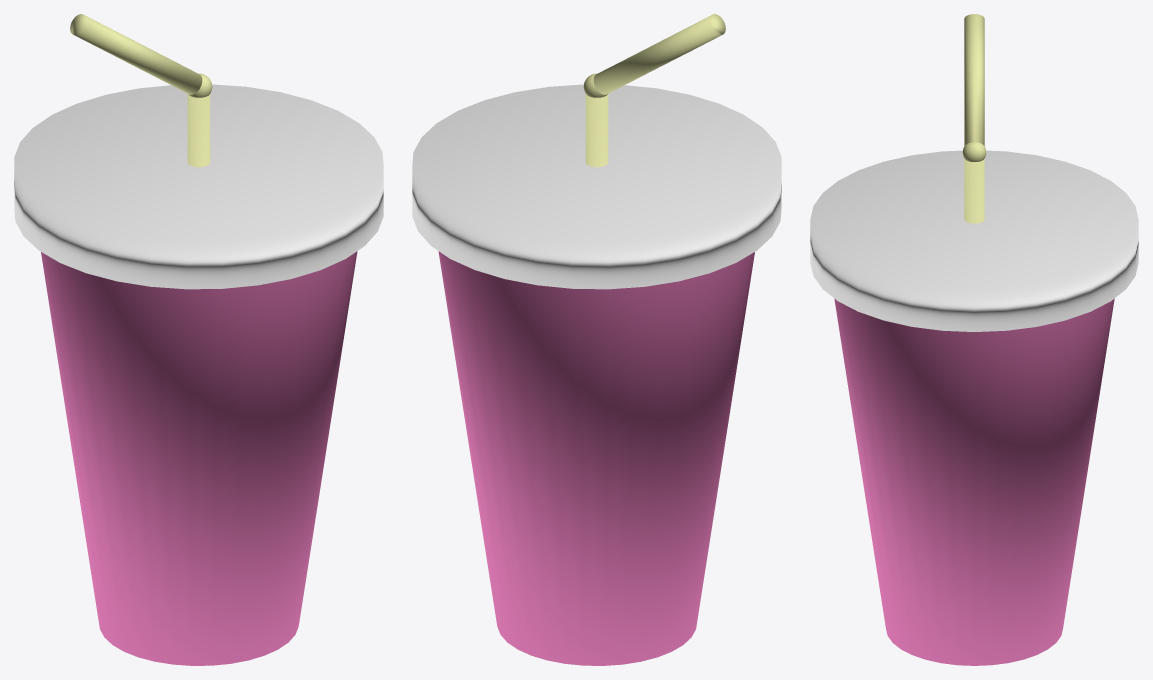
The model's file is Soda.fbx.
3 views of the same model, side by side, from view 1: azimuth 30°, elevation 25°; view 2: azimuth 150°, elevation 25°; view 3: azimuth 270°, elevation 25° (orthographic). The views are drawn at different scales.
Parts seen in each view (by area): view 1: Soda; view 2: Soda; view 3: Soda.
Part boxes in pixels (left/top/right/bottom): Soda: left=14, top=14, right=383, bottom=665; Soda: left=412, top=14, right=781, bottom=665; Soda: left=810, top=14, right=1138, bottom=665.
Size of the model in its own units: 163 by 309 by 163.
